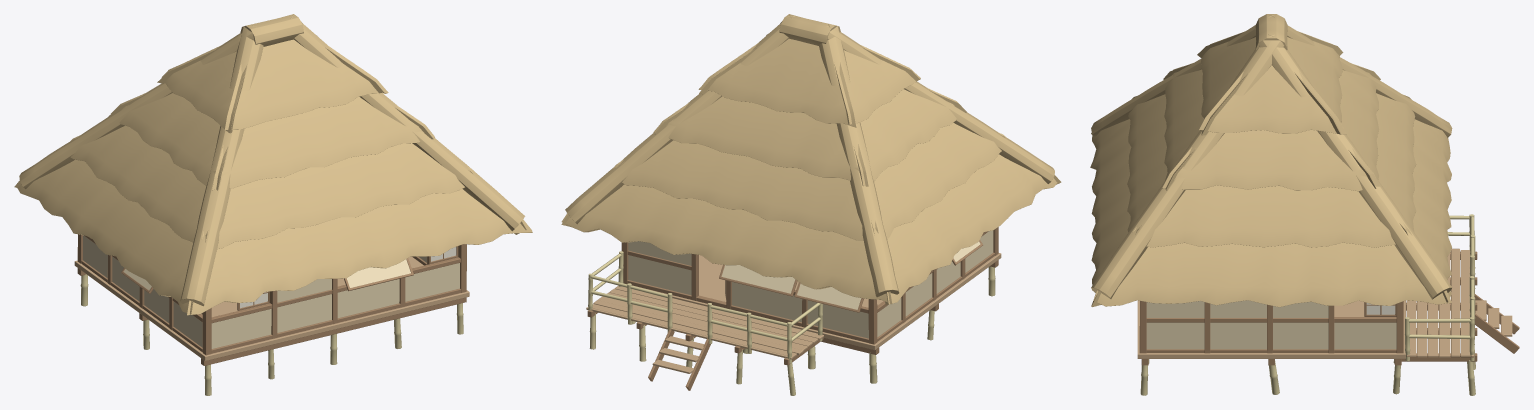
File: house_land_8919.glb
3 renders of one model, left to right at view 1: azimuth 30°, elevation 25°; view 2: azimuth 150°, elevation 25°; view 3: azimuth 270°, elevation 25°, orthographic. The views are drawn at different scales.
Visible parts, largest first — view 1: land_8919_thatch, land_8919_sawali, land_8919_timber, land_8919_plank, land_8919_bamboo; view 2: land_8919_thatch, land_8919_sawali, land_8919_plank, land_8919_timber, land_8919_bamboo; view 3: land_8919_thatch, land_8919_sawali, land_8919_plank, land_8919_timber, land_8919_bamboo.
Part boxes in pixels (box(x1,y1,x2,y2)): land_8919_thatch: box(14, 14, 532, 315); land_8919_sawali: box(83, 235, 459, 348); land_8919_timber: box(77, 234, 466, 365); land_8919_plank: box(74, 256, 469, 360); land_8919_bamboo: box(80, 274, 463, 395); land_8919_thatch: box(561, 14, 1061, 304); land_8919_sawali: box(628, 230, 993, 338); land_8919_plank: box(586, 253, 1001, 373); land_8919_timber: box(587, 227, 998, 390); land_8919_bamboo: box(588, 251, 995, 395); land_8919_thatch: box(1090, 14, 1452, 307); land_8919_sawali: box(1146, 300, 1396, 349); land_8919_plank: box(1137, 248, 1512, 358); land_8919_timber: box(1139, 251, 1519, 365); land_8919_bamboo: box(1140, 214, 1475, 395).
Size of the model in its own units: 10.73 by 8.85 by 11.26.
